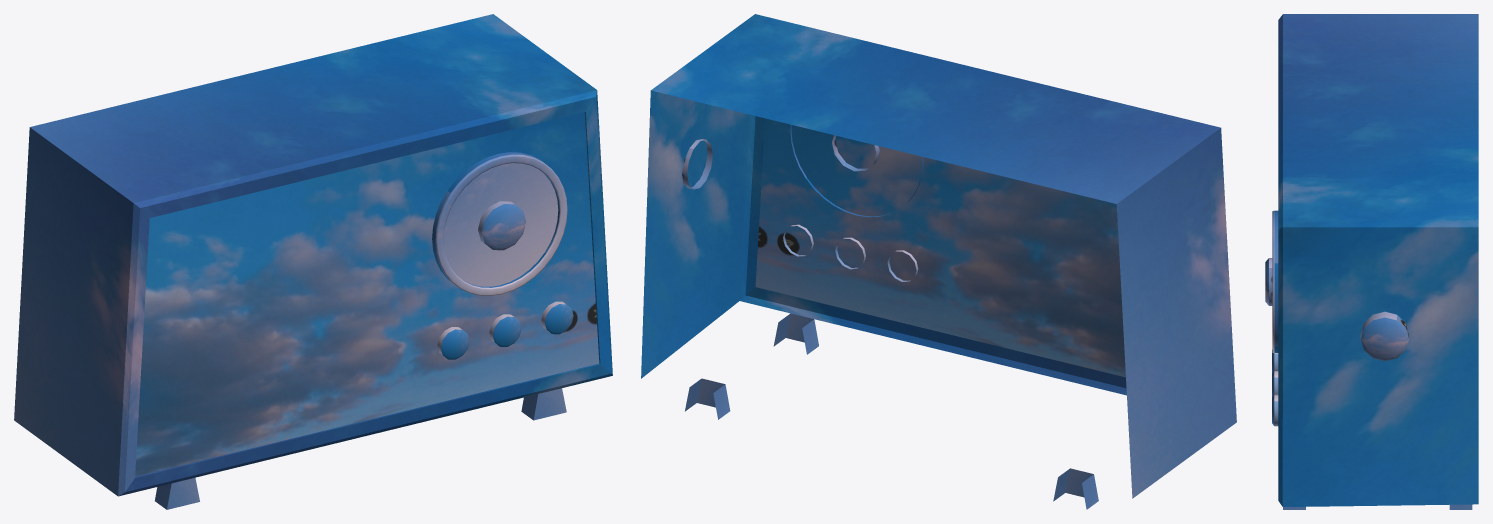
File: radio.FBX
The picture shows the model from 3 angles, left to right: view 1: azimuth 30°, elevation 25°; view 2: azimuth 150°, elevation 25°; view 3: azimuth 270°, elevation 25°; orthographic projection. The views are drawn at different scales.
Parts seen in each view (by area): view 1: Object001; view 2: Object001; view 3: Object001.
Part boxes in pixels (x1,y1,x2,y2): Object001: [14, 14, 612, 509]; Object001: [641, 14, 1236, 509]; Object001: [1265, 14, 1478, 509].
Size of the model in its own units: 17.1 by 10.29 by 6.71.
